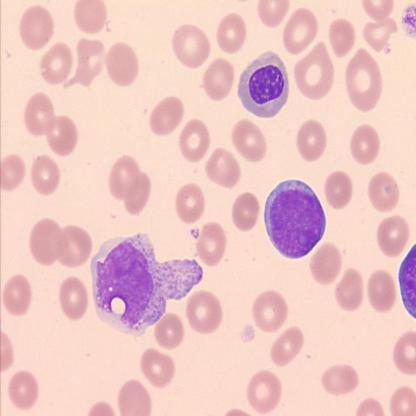NRC: (263, 178, 327, 260), (237, 48, 290, 120)
